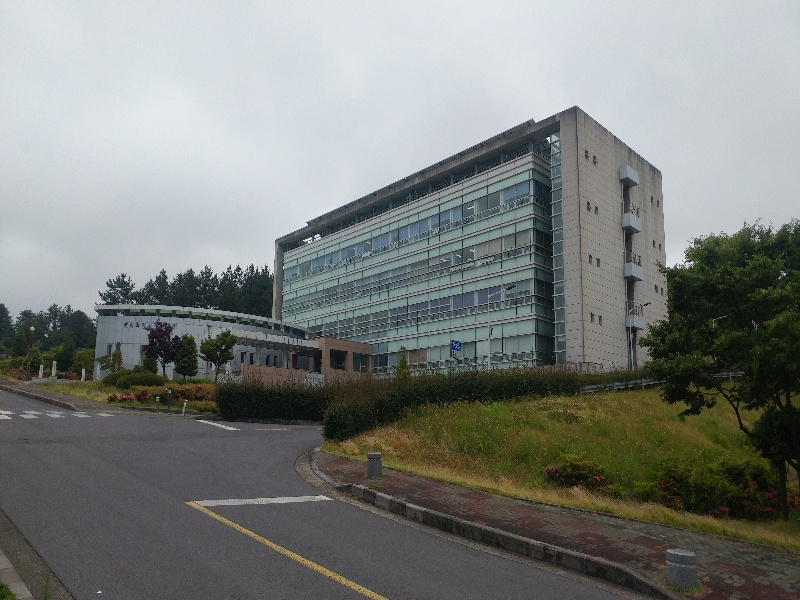College of Marine Science: (84, 141, 667, 367), (254, 127, 676, 363), (84, 300, 284, 376)
